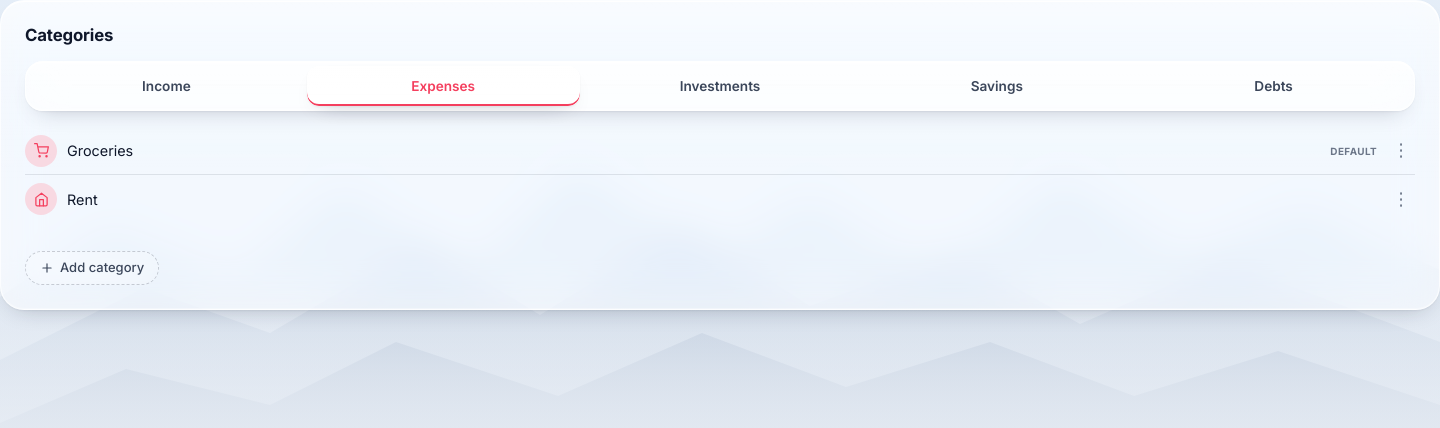
Scenario: CategoriesSettings › lists root categories of the selected domain and switches domains
Expected: the text "Groceries" is shown, x1=67 y1=142 x2=133 y2=159
Expected: the text "Rent" is shown, x1=67 y1=190 x2=98 y2=208
Click the tab "Income". click: x=166, y=86
box: x1=30 y1=66 x2=303 y2=106
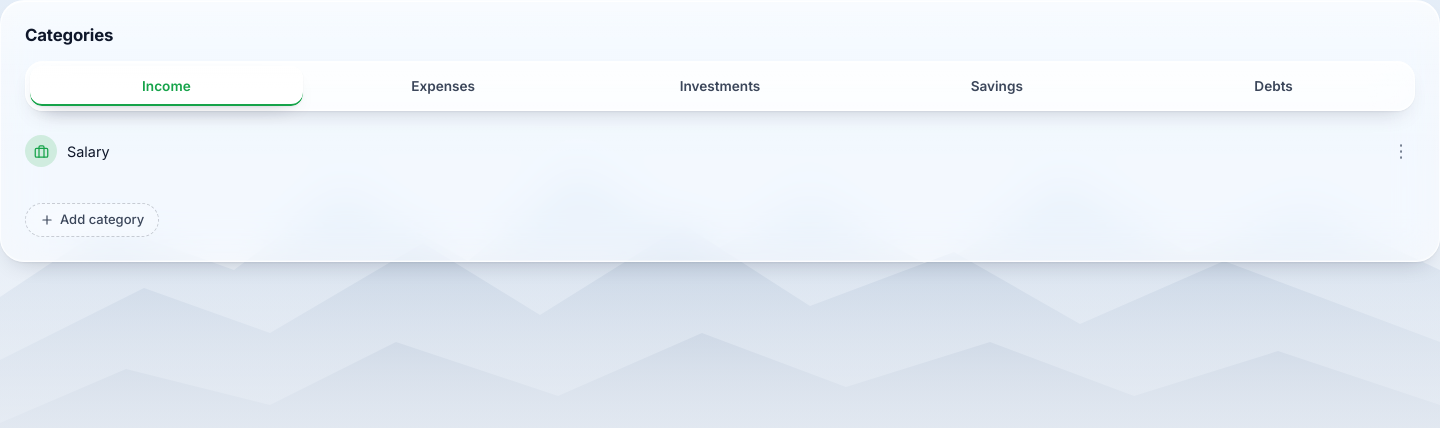
Expected: the text "Salary" is shown, x1=67 y1=142 x2=110 y2=160
